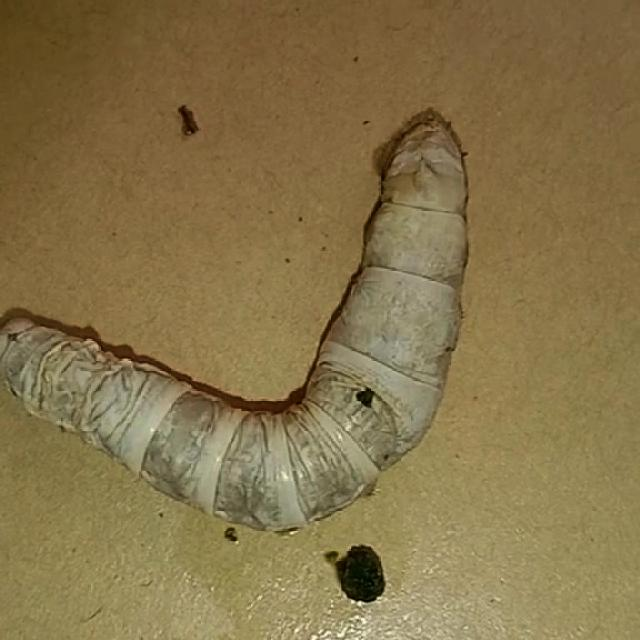Grasserie: (3, 82, 546, 556)
